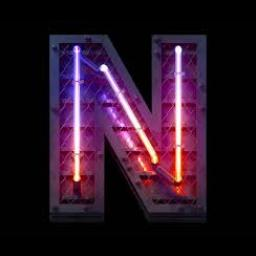n: (40, 24, 218, 222)
